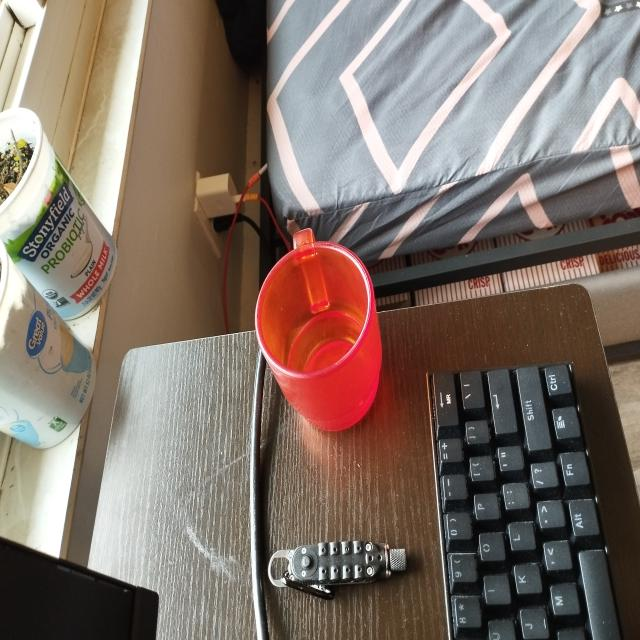Cup: (245, 230, 401, 440)
